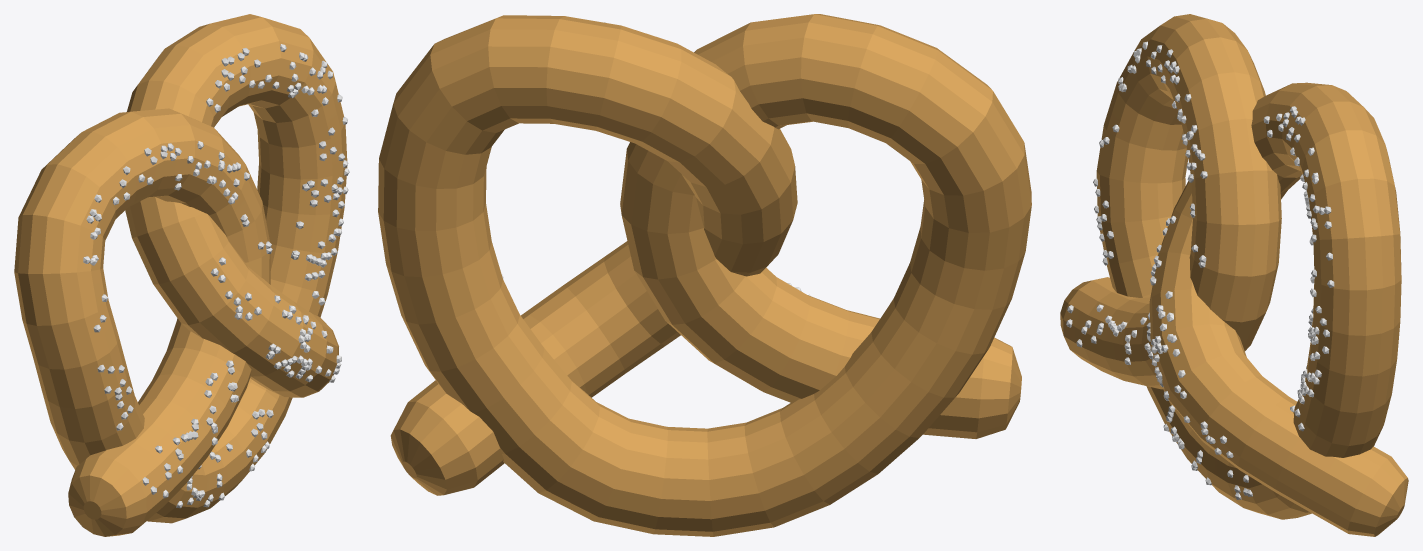
File: Pretzel_UV.fbx
3 views of the same model, side by side, from view 1: azimuth 30°, elevation 25°; view 2: azimuth 150°, elevation 25°; view 3: azimuth 270°, elevation 25° (orthographic). The views are drawn at different scales.
Visible parts, largest first — view 1: Mesh; view 2: Mesh; view 3: Mesh.
Boxes of the visible parts, x1,y1,x2,y2 form: Mesh: (14,14,349,536); Mesh: (378,14,1031,536); Mesh: (1060,14,1408,536).
Bounding box in the file's own units: 211 × 207 × 151.
